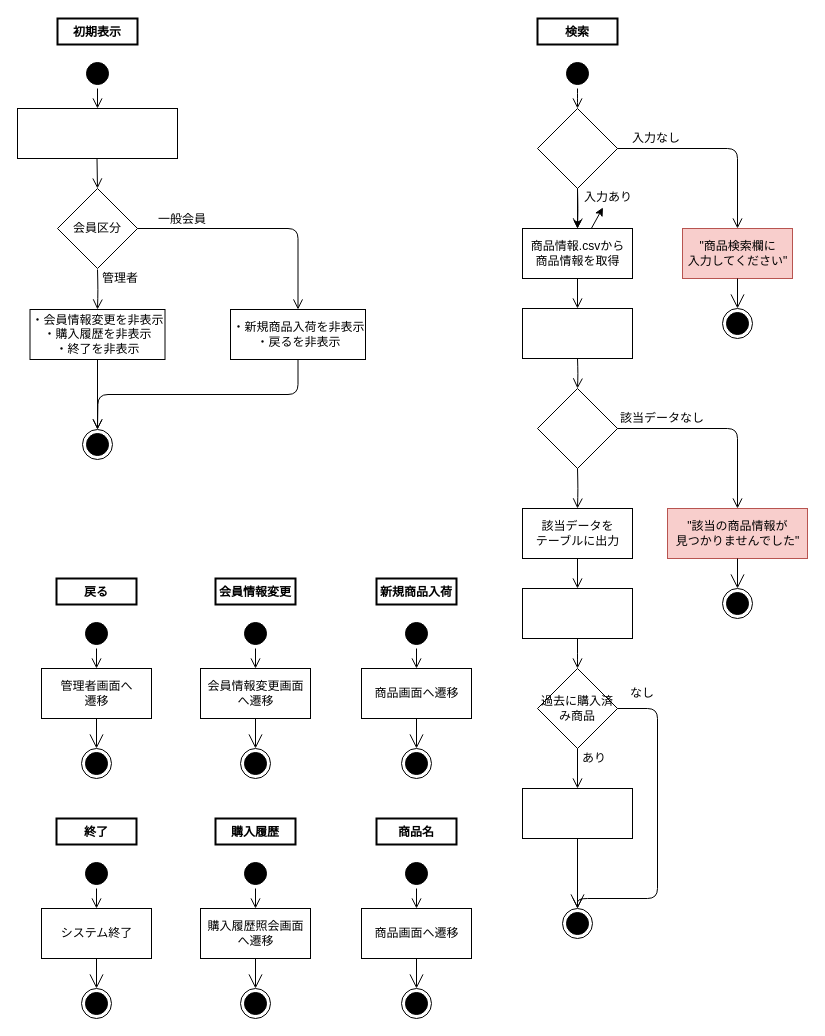
This 825x1036 diagram has some shape labels left out. The box of each missing label's shape, as (x1, y1, x2, y2) in pixels:
会員IDと会員名を設定し、 項目を非活性化: (16, 108, 178, 158)
商品名から 入力内容を曖昧検索: (522, 308, 632, 358)
商品検索: (536, 108, 618, 188)
最終購入日時を テーブルに出力: (522, 788, 632, 838)
検索結果: (536, 388, 618, 468)
購入履歴.csvから 購入履歴を取得: (522, 588, 632, 638)
